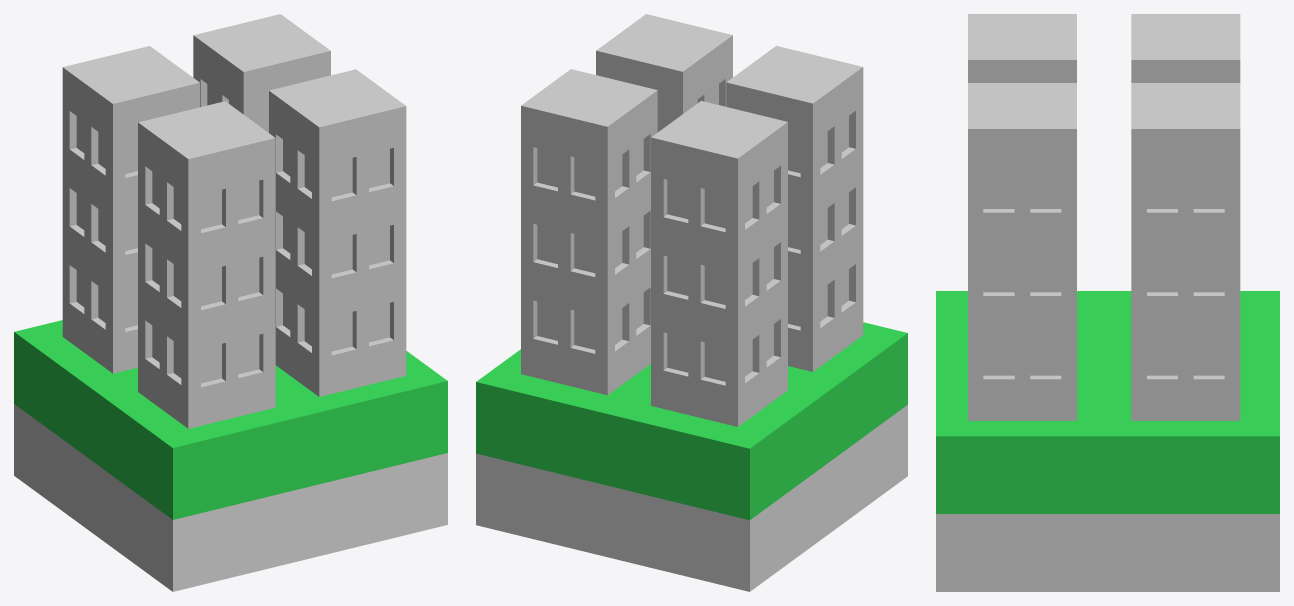
Rendered from citytile.fbx.
3 renders of one model, left to right at view 1: azimuth 30°, elevation 25°; view 2: azimuth 150°, elevation 25°; view 3: azimuth 270°, elevation 25°, orthographic. The views are drawn at different scales.
Parts seen in each view (by area): view 1: City, Tile; view 2: City, Tile; view 3: City, Tile.
Boxes of the visible parts, x1,y1,x2,y2 form: City: (62,14,406,428); Tile: (14,320,447,591); City: (521,14,863,426); Tile: (476,322,907,591); City: (968,14,1240,420); Tile: (936,291,1279,591).
Size of the model in its own units: 200 by 288 by 200.
